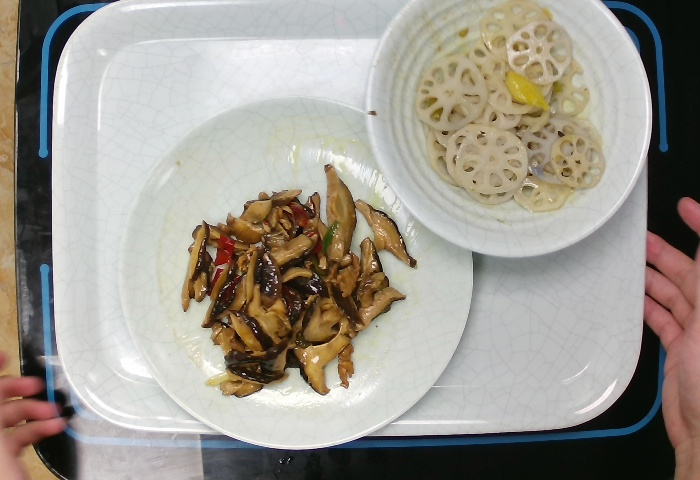JYsf-Da_Yuan_Pan: (116, 91, 478, 454)
JYsf-Xiao_Tang_Wan: (359, 1, 657, 260)
